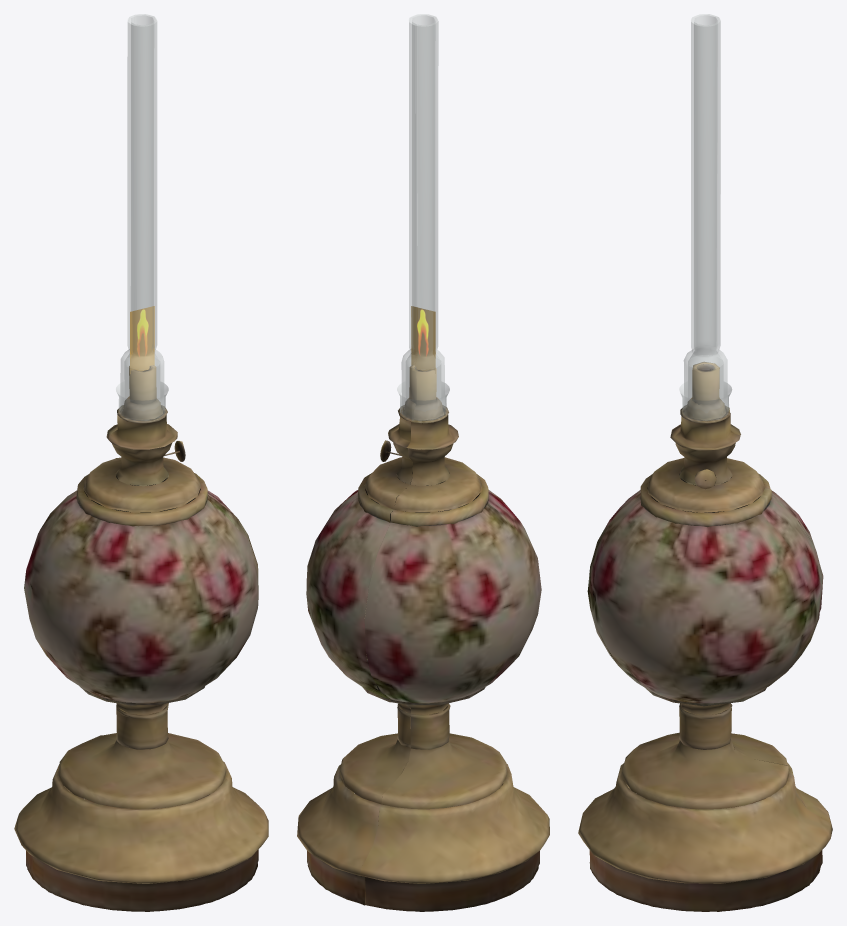
The model's file is lamp_oil.glb.
3 renders of one model, left to right at view 1: azimuth 30°, elevation 25°; view 2: azimuth 150°, elevation 25°; view 3: azimuth 270°, elevation 25°, orthographic.
Visible parts, largest first — view 1: vintage_oil_lamp, vintage_oil_lamp_glass, vintage_oil_lamp_flame; view 2: vintage_oil_lamp, vintage_oil_lamp_glass, vintage_oil_lamp_flame; view 3: vintage_oil_lamp, vintage_oil_lamp_glass.
Part boxes in pixels (bbox=[...]): vintage_oil_lamp: bbox=[14, 365, 268, 911]; vintage_oil_lamp_glass: bbox=[116, 14, 168, 420]; vintage_oil_lamp_flame: bbox=[130, 306, 154, 373]; vintage_oil_lamp: bbox=[297, 365, 549, 911]; vintage_oil_lamp_glass: bbox=[397, 14, 449, 420]; vintage_oil_lamp_flame: bbox=[411, 306, 435, 373]; vintage_oil_lamp: bbox=[578, 362, 832, 911]; vintage_oil_lamp_glass: bbox=[679, 14, 731, 420].
Size of the model in its own units: 0.2198 by 0.8016 by 0.2197.
Materials: 3 (1 with a texture image).
